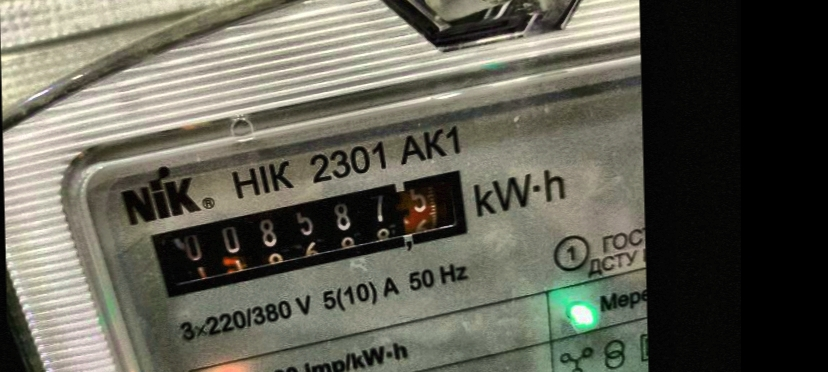0: (217, 220, 244, 255), (180, 229, 206, 262)
5: (293, 206, 317, 237), (406, 181, 429, 212)
6: (412, 216, 431, 233)
7: (368, 191, 390, 225)
8: (256, 216, 281, 248), (330, 199, 354, 232)
screen: (141, 168, 491, 299)
